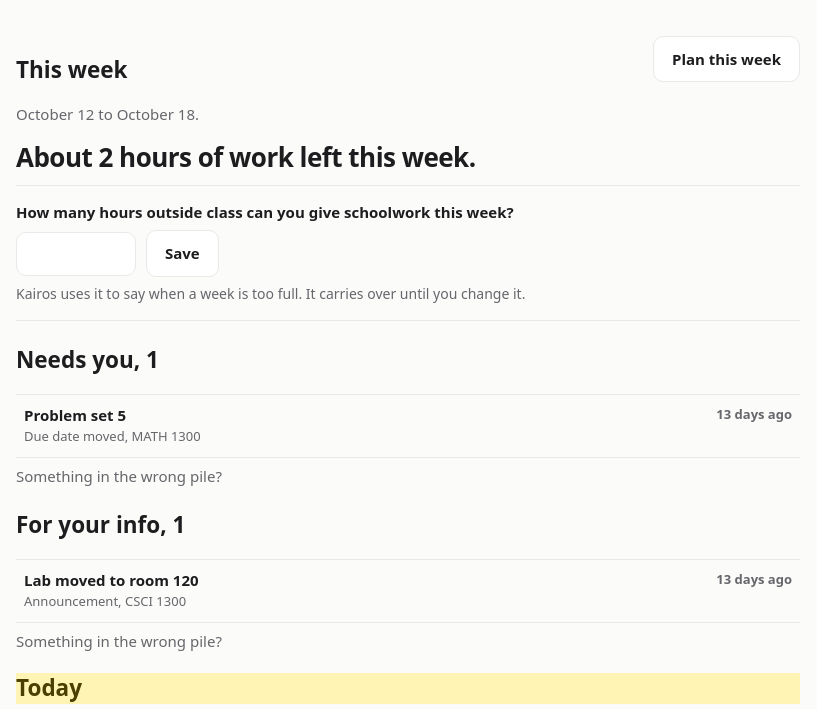
WeekView › sorts Canvas changes into piles and lets the student move one for good
This screenshot has width=817, height=709.
Expected: the heading "Needs you, 1" is shown, [16,344,159,374]
Expected: the heading "For your info, 1" is shown, [16,509,185,540]
Click the button "Something in the wrong pile?" below "Announcement".
click(119, 641)  # box [16,631,222,651]
(page scrolled)
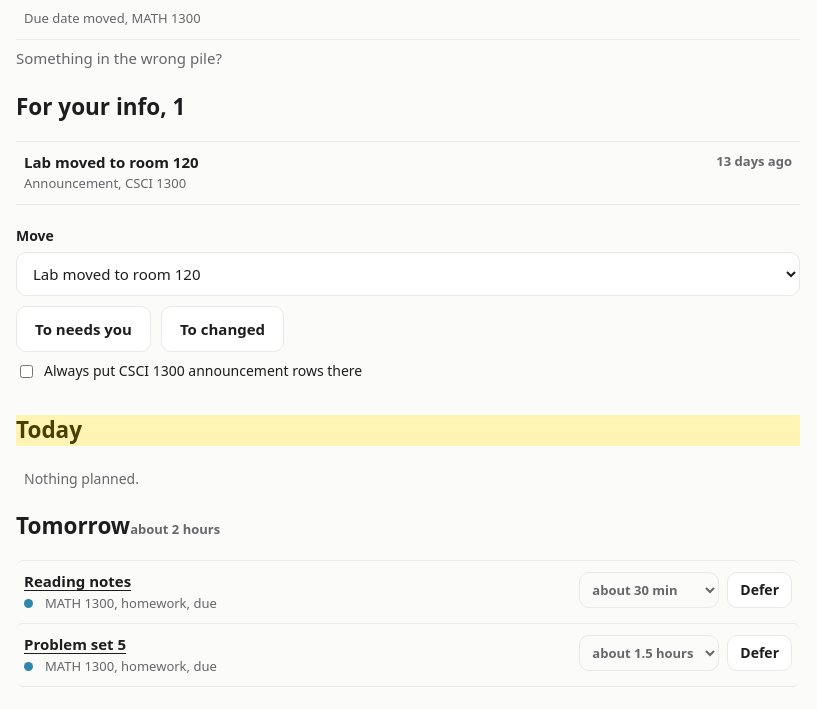
Click the checkbox.
click(26, 372)  # box [20,365,33,378]
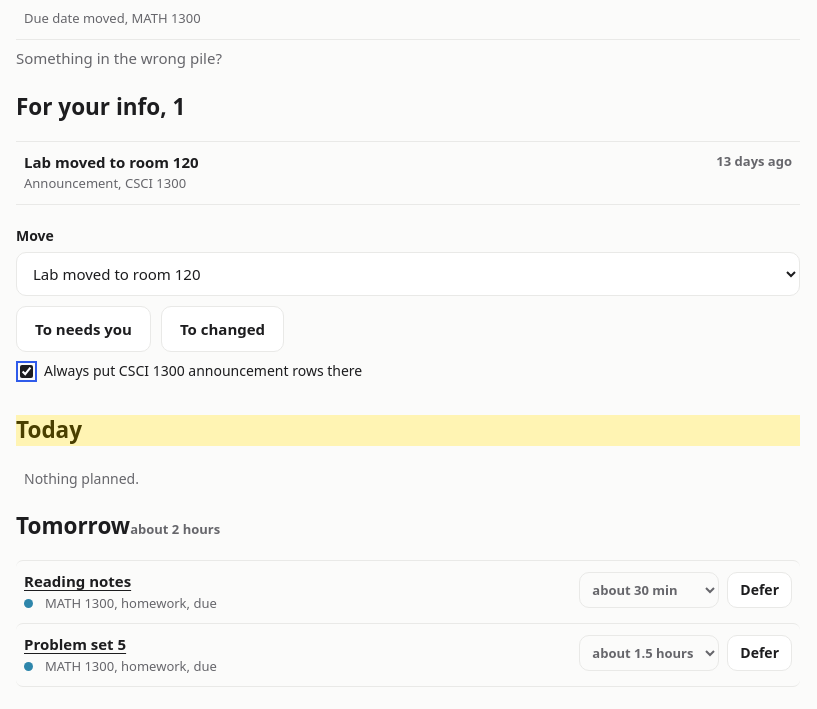
Click the button "To needs you".
click(84, 329)  # box [16,306,151,352]
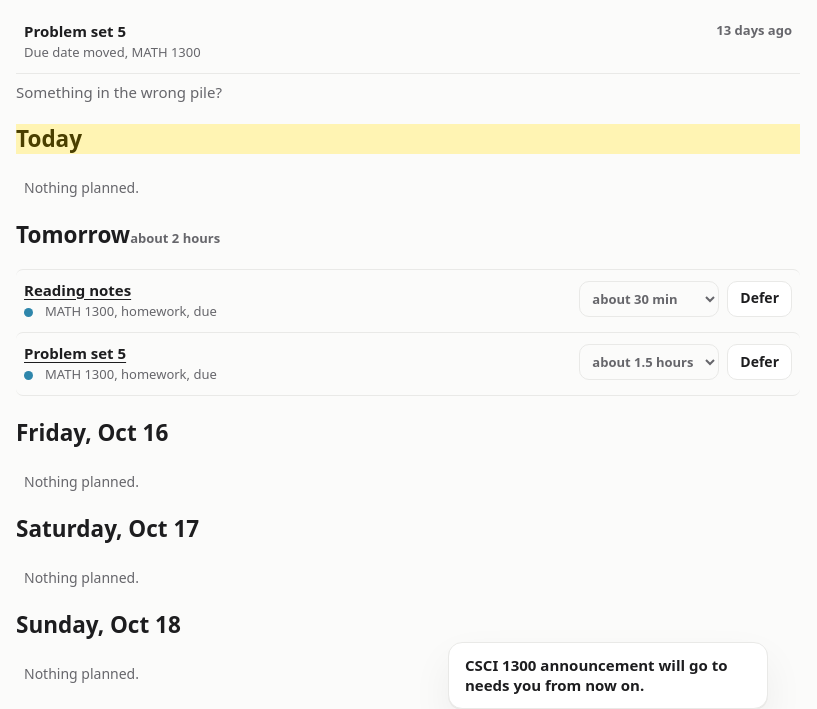
Now the message shows "from now on", box [465,654,728,695]
